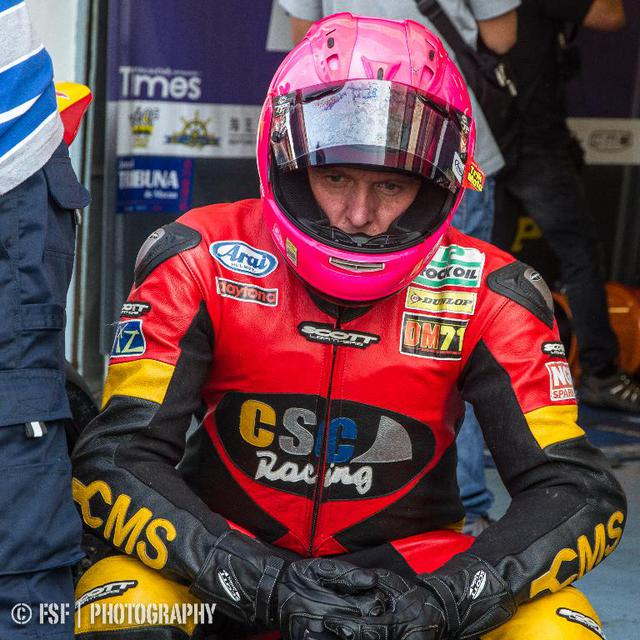helmet: (261, 23, 475, 264)
